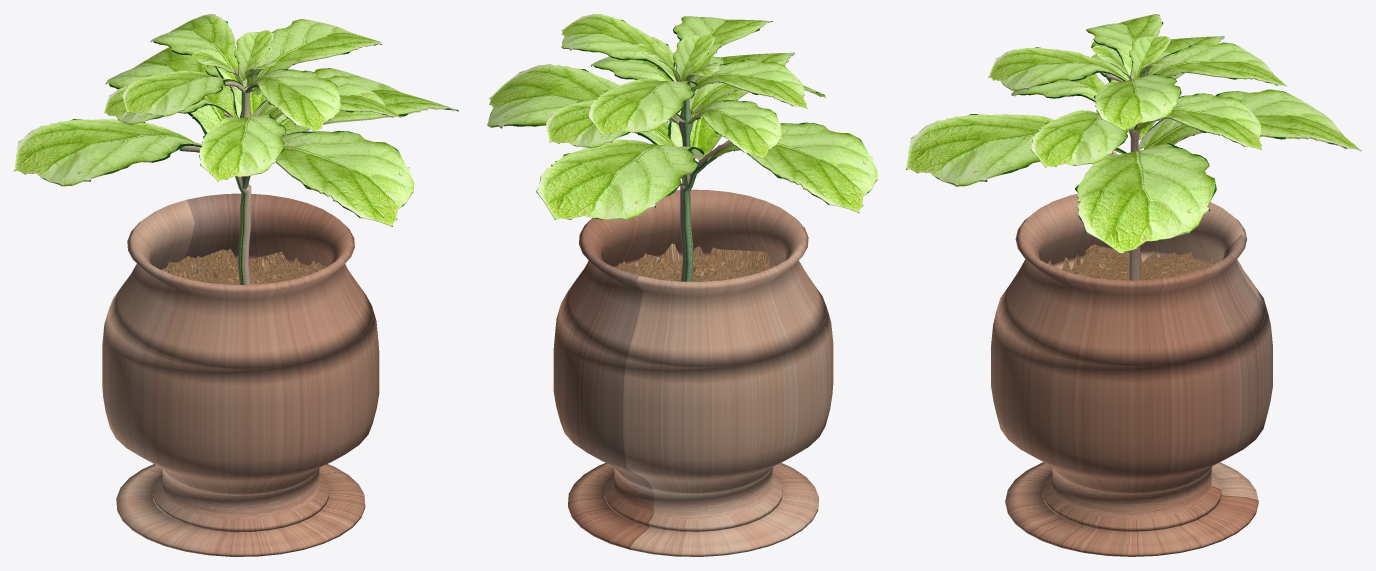
File: pot_plant_1.gltf
3 renders of one model, left to right at view 1: azimuth 30°, elevation 25°; view 2: azimuth 150°, elevation 25°; view 3: azimuth 270°, elevation 25°, orthographic.
Visible parts, largest first — view 1: Cylinder; view 2: Cylinder; view 3: Cylinder.
Part boxes in pixels (box(x1,y1,x2,y2)): Cylinder: box(14, 14, 458, 556); Cylinder: box(487, 14, 877, 556); Cylinder: box(906, 14, 1361, 556).
Bounding box in the file's own units: 3.1 × 3.34 × 2.99.
5 materials, 4 textured.
